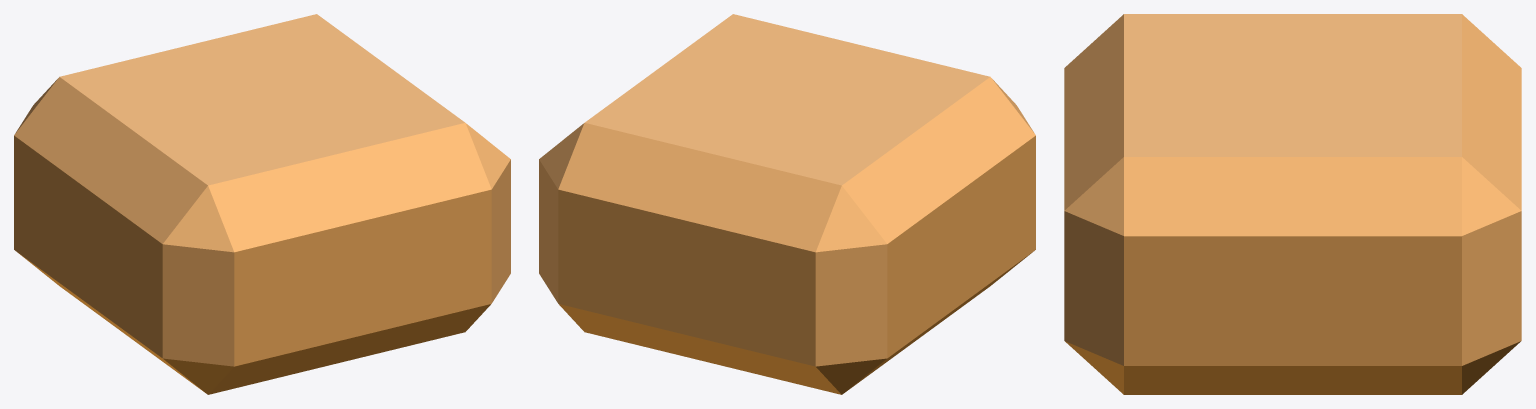
File: m_kub_clay_floorBrickMini.FBX
3 renders of one model, left to right at view 1: azimuth 30°, elevation 25°; view 2: azimuth 150°, elevation 25°; view 3: azimuth 270°, elevation 25°, orthographic. The views are drawn at different scales.
Parts seen in each view (by area): view 1: m_kub_clay_floorBrickMini; view 2: m_kub_clay_floorBrickMini; view 3: m_kub_clay_floorBrickMini.
Boxes of the visible parts, box(x1,y1,x2,y2) form: m_kub_clay_floorBrickMini: box(14, 14, 510, 394); m_kub_clay_floorBrickMini: box(539, 14, 1035, 394); m_kub_clay_floorBrickMini: box(1064, 14, 1521, 394).
Bounding box in the file's own units: 1.18 × 0.6751 × 1.18.
